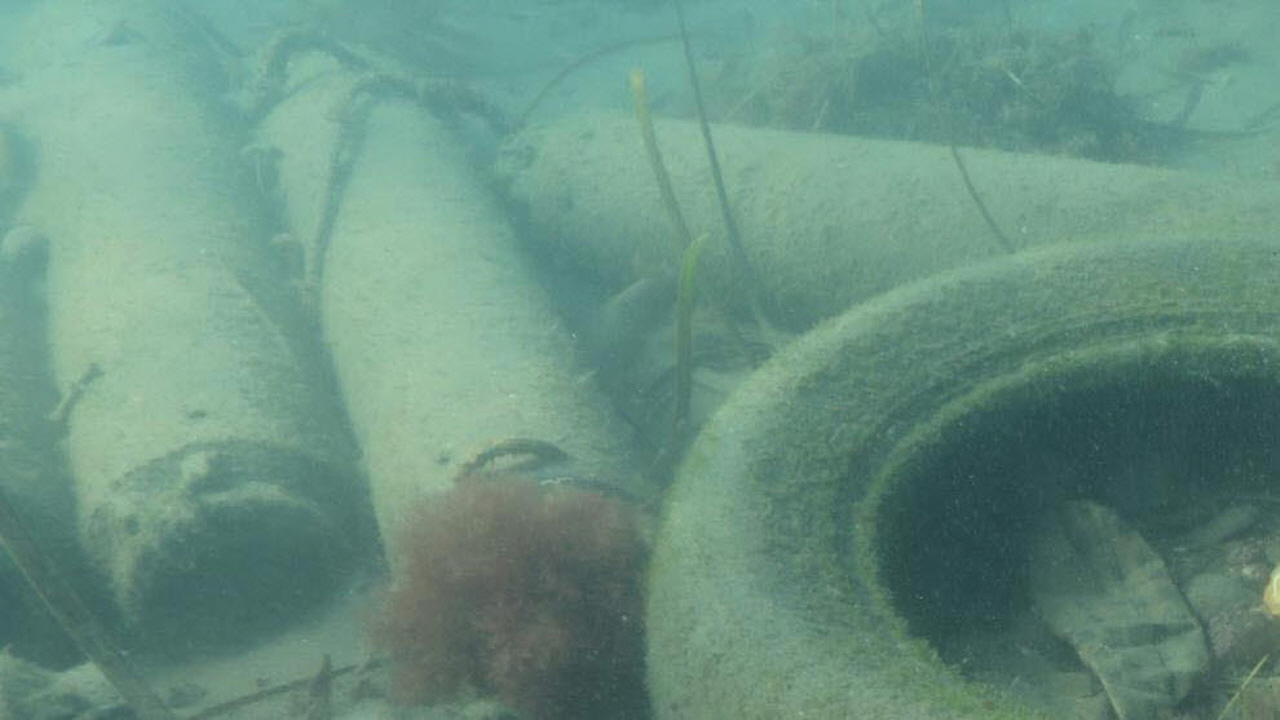eel fish trap: (22, 0, 358, 662), (251, 44, 661, 582), (492, 111, 1280, 332)
tire: (645, 237, 1280, 720)
